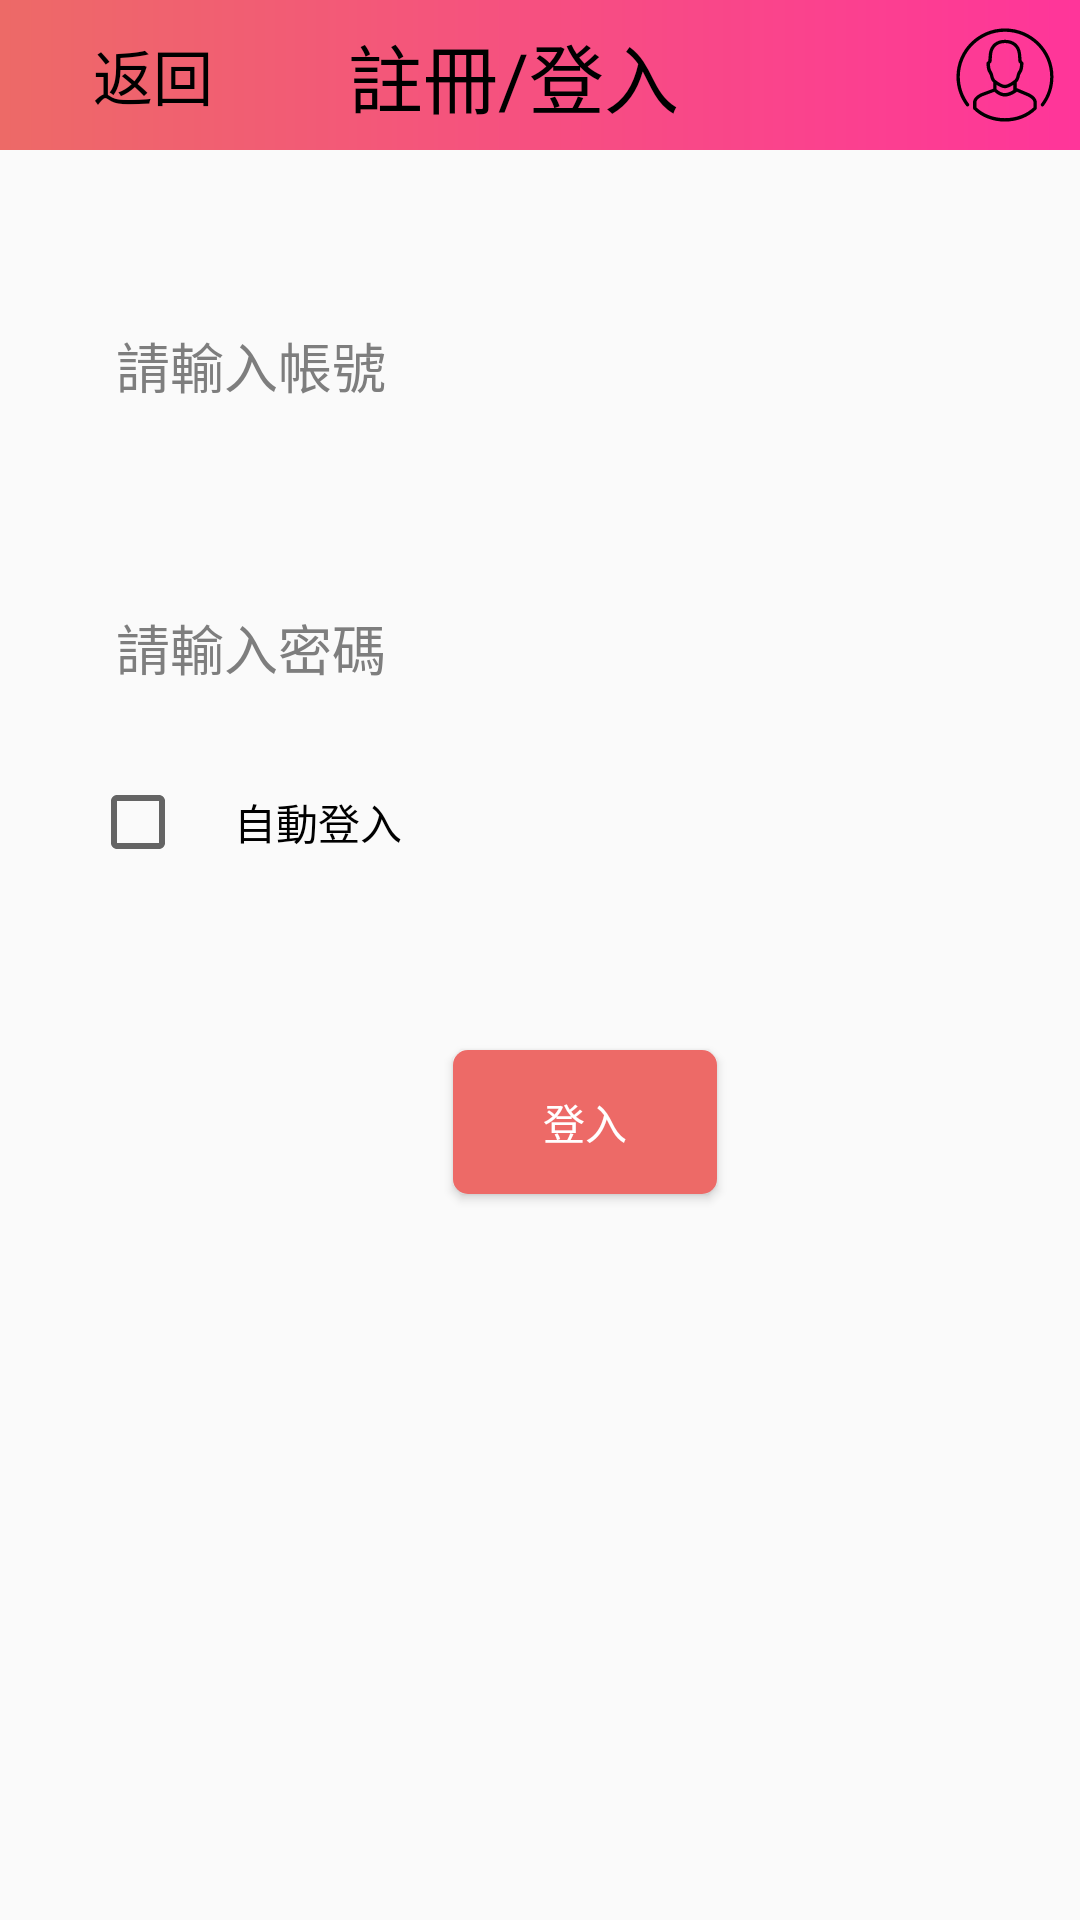

Icons on this 1080px x 1920px Android screen, each with the point to tap as [x,y]:
account: [1005,75]
